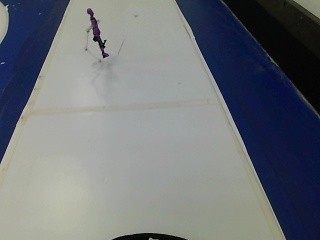pedestrian: (77, 7, 118, 67)
